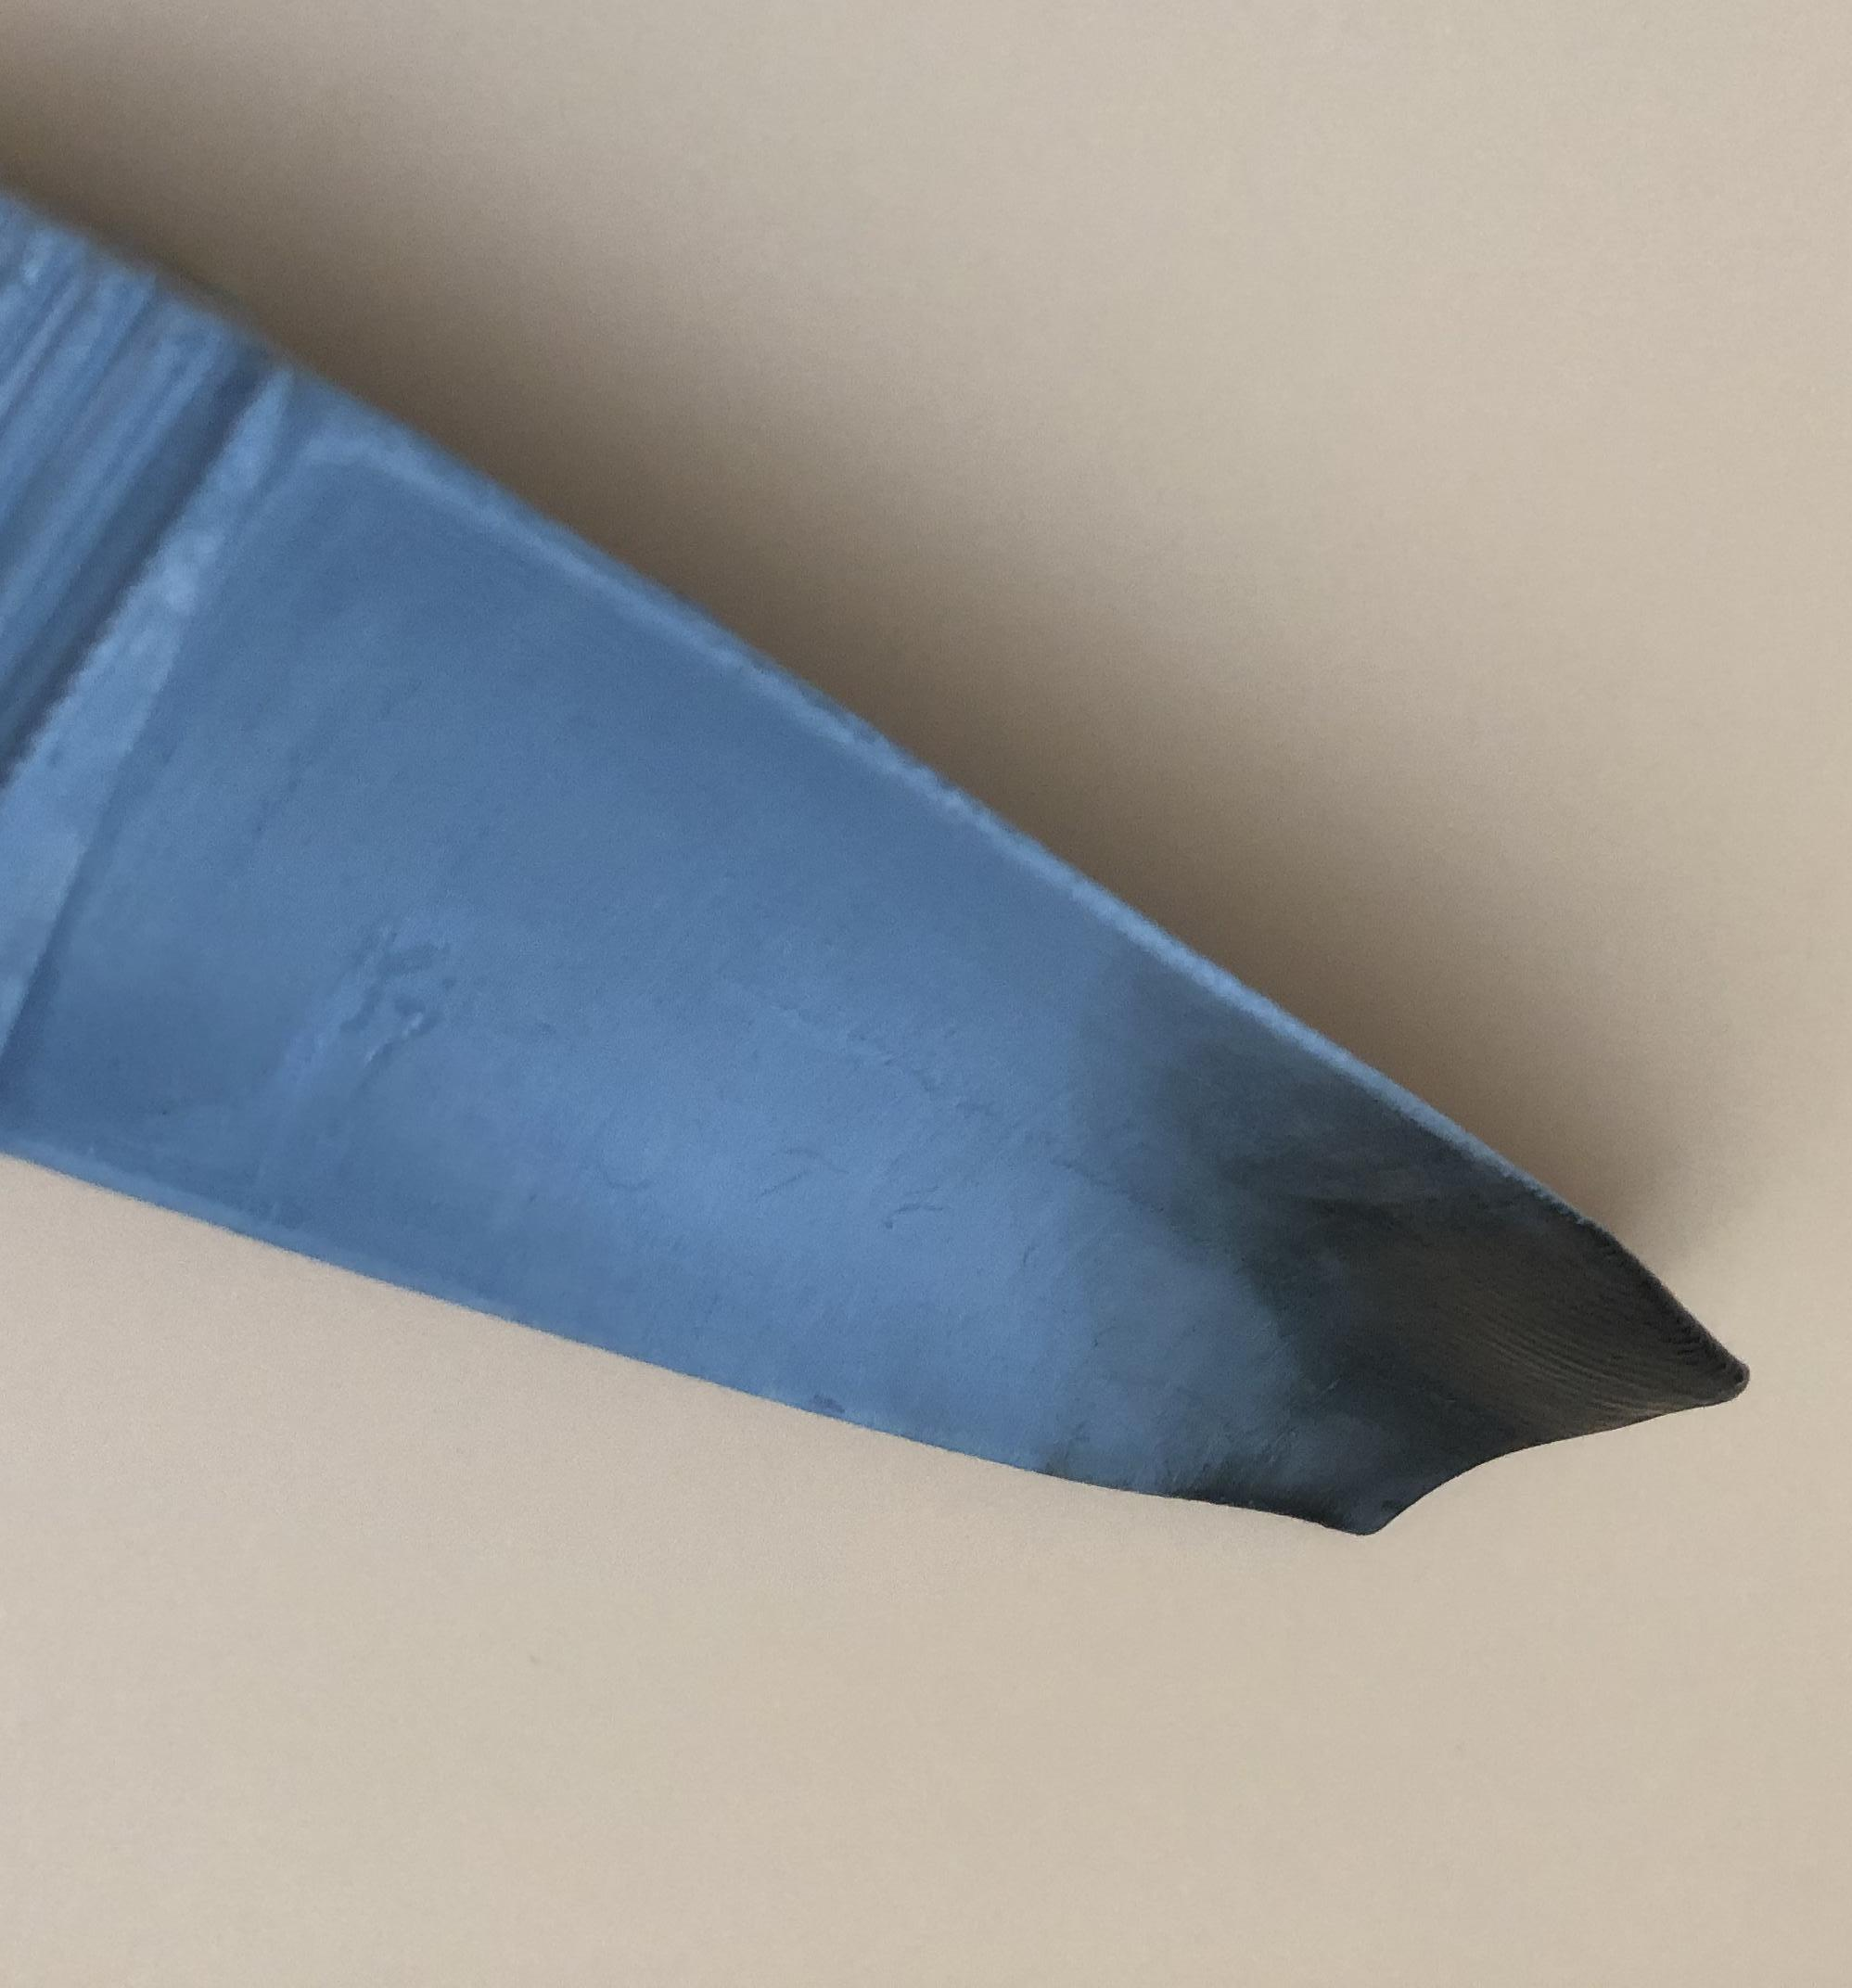ablation: (1264, 1156, 1657, 1469)
